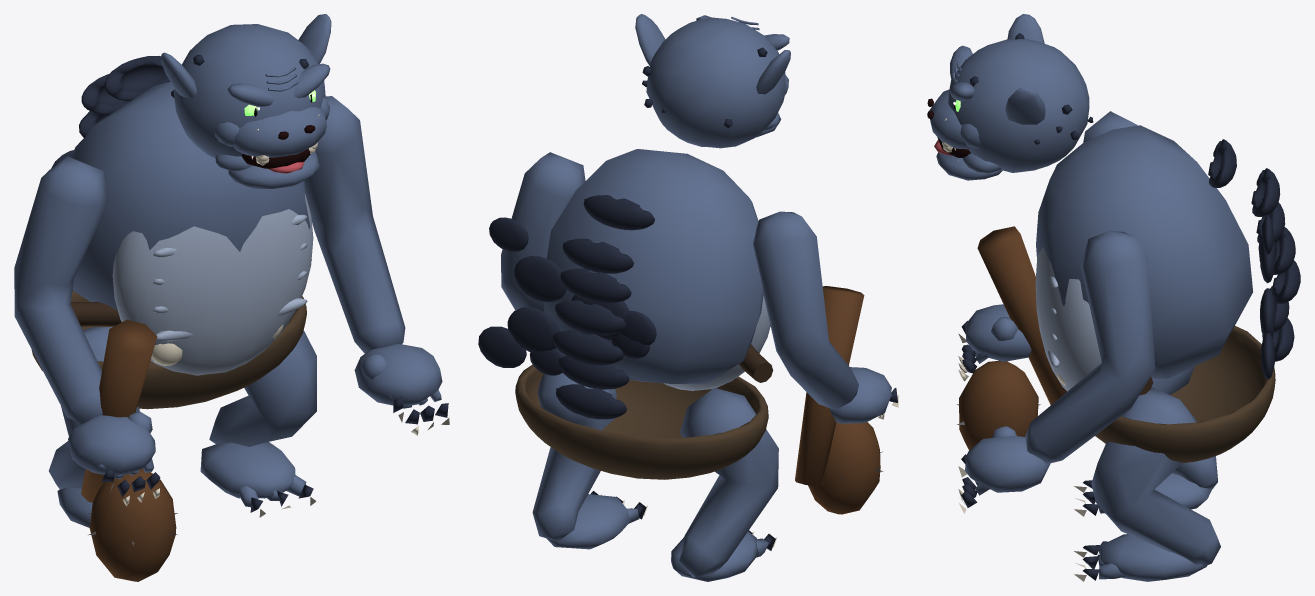
Rendered from kaempe_2.glb.
The picture shows the model from 3 angles, left to right: view 1: azimuth 30°, elevation 25°; view 2: azimuth 150°, elevation 25°; view 3: azimuth 270°, elevation 25°; orthographic projection. The views are drawn at different scales.
Visible parts, largest first — view 1: krop_net, armH_net, hoved_net, armV_net, benV_net, benH_net; view 2: krop_net, armH_net, hoved_net, benH_net, benV_net, armV_net; view 3: krop_net, armV_net, hoved_net, benV_net, armH_net, benH_net.
Part boxes in pixels (x1,y1,x2,y2): krop_net: (31,56,313,409); armH_net: (14,156,177,581); hoved_net: (161,14,331,188); armV_net: (305,96,449,435); benV_net: (200,330,316,517); benH_net: (49,327,139,527); krop_net: (478,149,773,479); armH_net: (753,211,898,514); hoved_net: (635,14,790,148); benH_net: (671,388,778,581); benV_net: (532,355,647,549); armV_net: (501,152,585,311); krop_net: (1035,125,1300,463); armV_net: (958,230,1155,513); hoved_net: (927,14,1093,180); benV_net: (1074,387,1220,581); armH_net: (956,111,1137,450); benH_net: (1074,366,1217,516).
Size of the model in its own units: 2.29 by 3.2 by 2.19.
